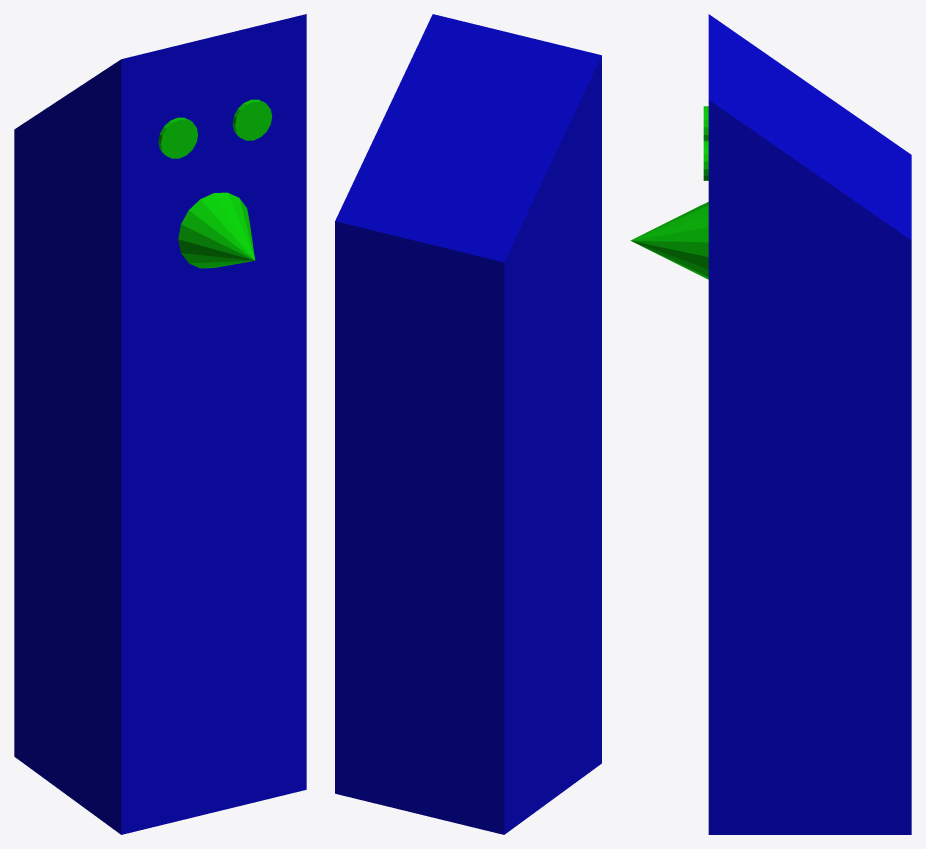
Rendered from totem.dae.
3 renders of one model, left to right at view 1: azimuth 30°, elevation 25°; view 2: azimuth 150°, elevation 25°; view 3: azimuth 270°, elevation 25°, orthographic. The views are drawn at different scales.
Parts seen in each view (by area): view 1: body, face; view 2: body; view 3: body, face.
Boxes of the visible parts, bbox=[...] form: body: bbox=[14, 14, 306, 834]; face: bbox=[158, 99, 272, 268]; body: bbox=[335, 14, 601, 834]; body: bbox=[708, 14, 911, 834]; face: bbox=[630, 106, 708, 279].
Bounding box in the file's own units: 1 × 1.39 × 4.
